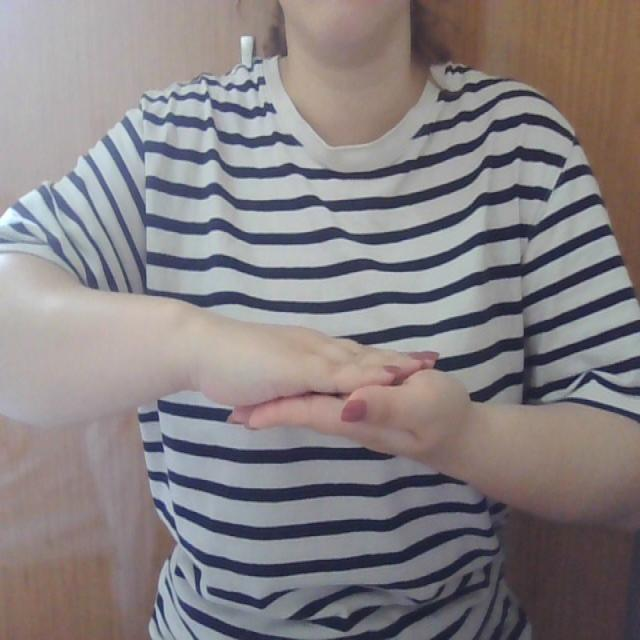Arkadas: (165, 284, 526, 491)
